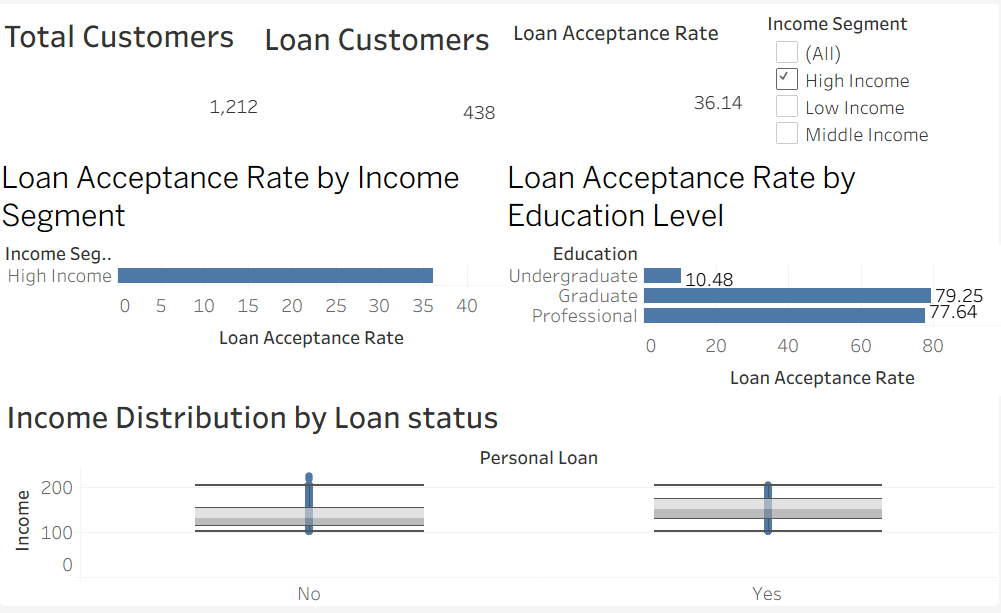

The page's visual inventory and layout, read from the dashboard file:
{"tool":"tableau","page":{"name":"Credit Risk & Personal Loan Exposure – Executive Dashboard","canvas":[1000,600],"ordinal":0},"visuals":[{"type":"worksheet","title":"Sheet 4","mark":"Text","box":[1,6,262,136]},{"type":"filter","title":"Sheet 4","param":"[federated.1skoty71kwa6qm1ggbrz10yncnrp].[none:Income_Segment:nk]","box":[768,6,217,137]},{"type":"worksheet","title":"Sheet 5","mark":"Automatic","box":[261,9,239,141]},{"type":"worksheet","title":"Sheet 6","mark":"Automatic","box":[510,10,237,132]},{"type":"worksheet","title":"Sheet 2","mark":"Automatic","rows":["Education"],"cols":["Calculation_1847756021620736"],"box":[504,150,499,263]},{"type":"worksheet","title":"Sheet 3","mark":"Circle","rows":["Income"],"cols":["Personal_Loan"],"box":[3,387,995,215]}]}

Visuals, with their boxes in screenshot pixels (x1, y1, x2, y2), scaled from the page's 1000x600 canvas onto the 1001x613 screenshot:
"Sheet 4" worksheet (Text marks): {"x1": 1, "y1": 6, "x2": 263, "y2": 145}
"Sheet 4" filter: {"x1": 769, "y1": 6, "x2": 986, "y2": 146}
"Sheet 5" worksheet: {"x1": 261, "y1": 9, "x2": 500, "y2": 153}
"Sheet 6" worksheet: {"x1": 511, "y1": 10, "x2": 748, "y2": 145}
"Sheet 2" worksheet: {"x1": 505, "y1": 153, "x2": 1000, "y2": 422}
"Sheet 3" worksheet (Circle marks): {"x1": 3, "y1": 395, "x2": 999, "y2": 612}
